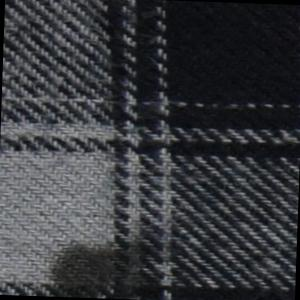Stain: (44, 237, 178, 300)
